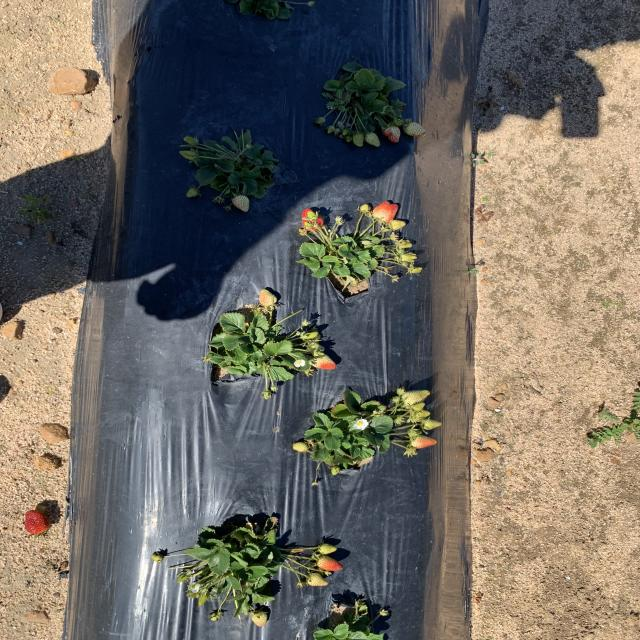unripe: (26, 510, 50, 536), (299, 208, 324, 230)
